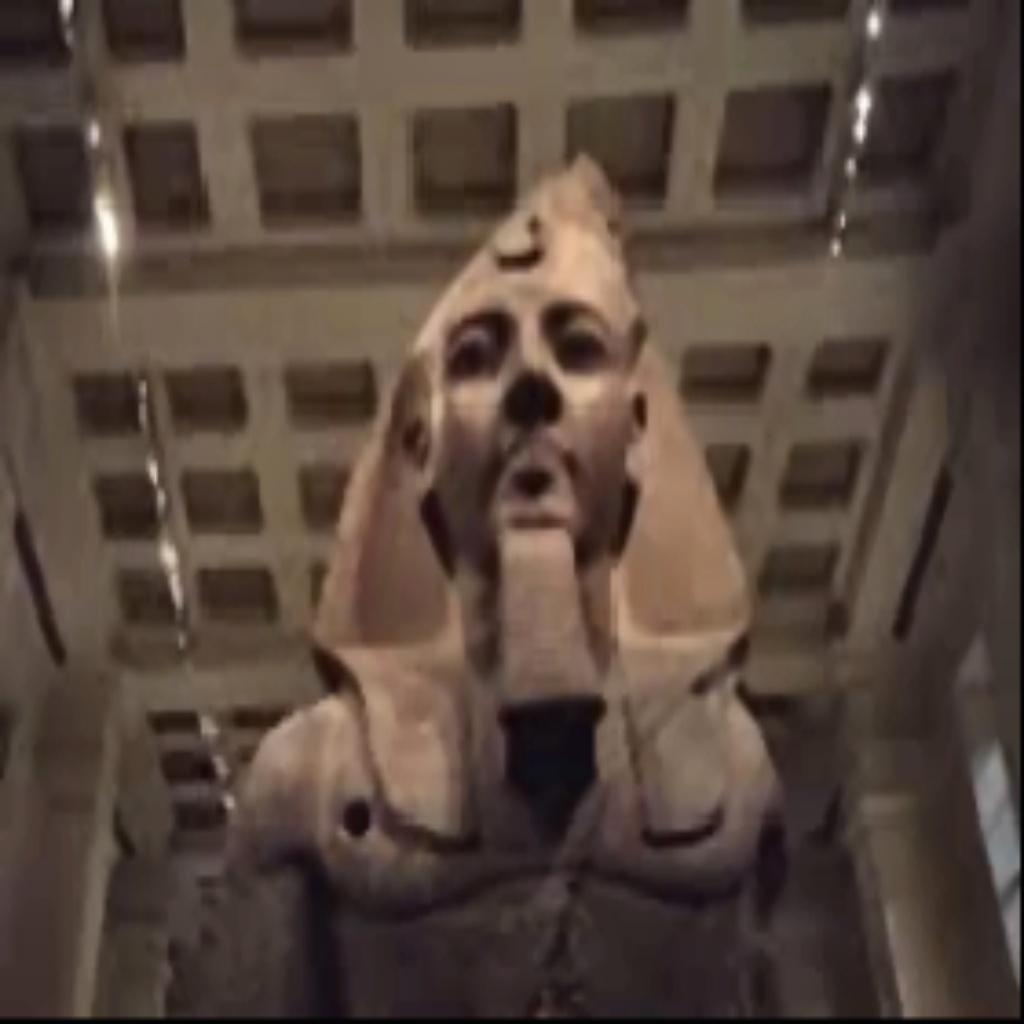bust of Ramesses II: (194, 148, 797, 1013)
